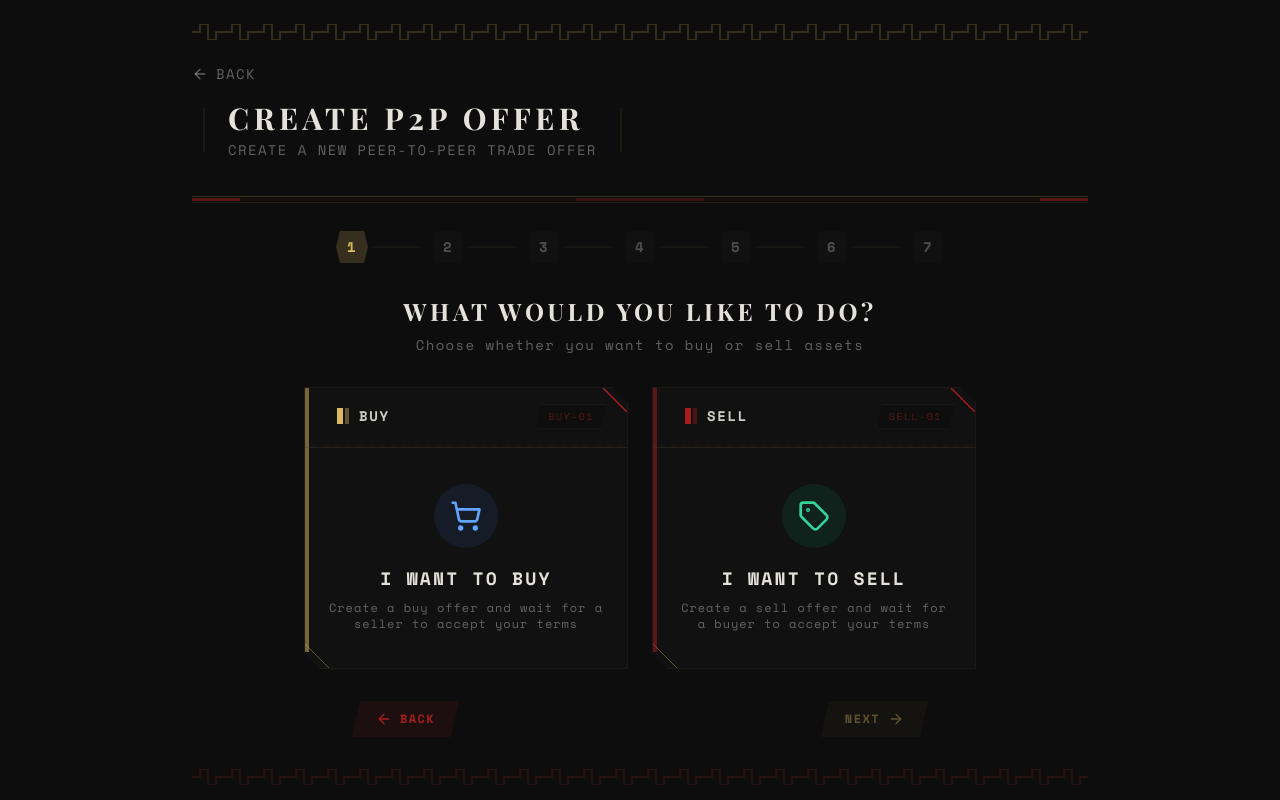
Test: Create P2P Offer Page › step 1: offer type › should advance to asset step after selecting type and clicking Next
Click the heading "I want to Sell": (814, 578) [722,565,906,591]
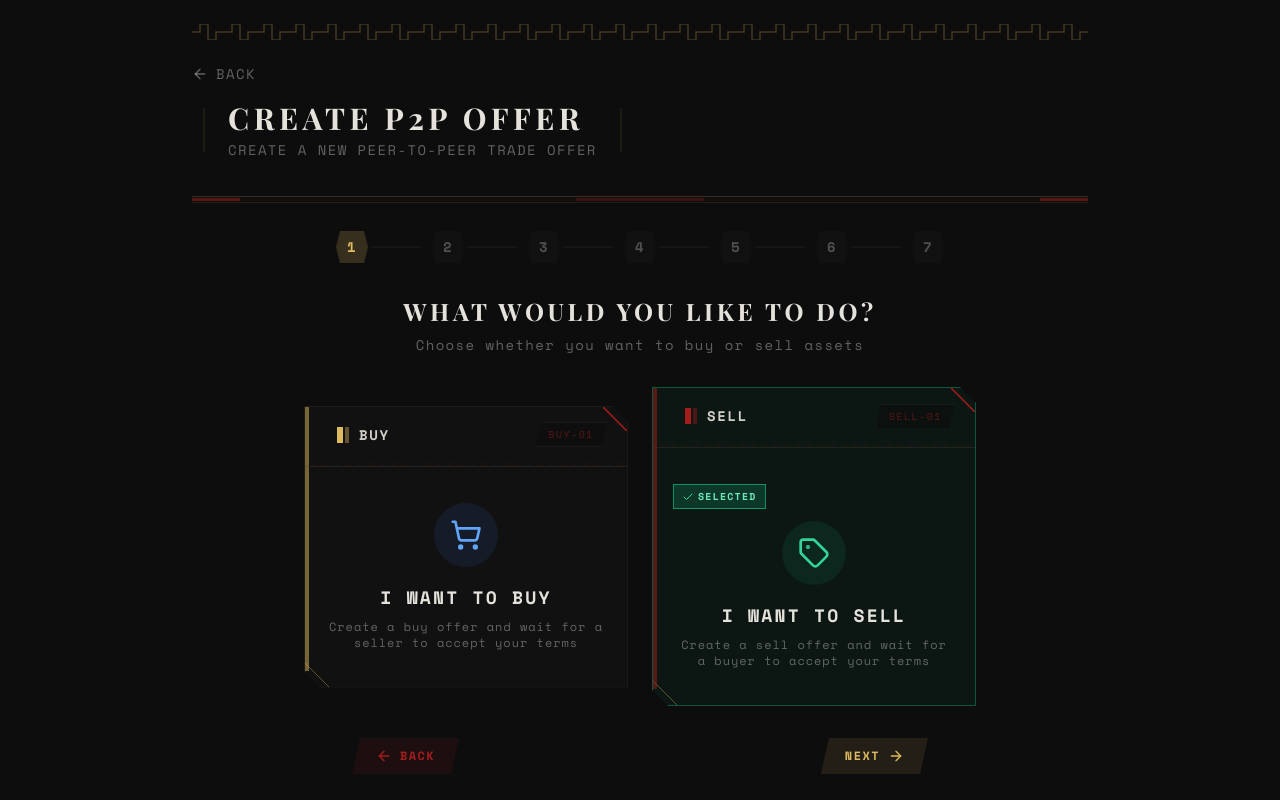
Click the button "Next": (874, 756) [821,738,928,774]
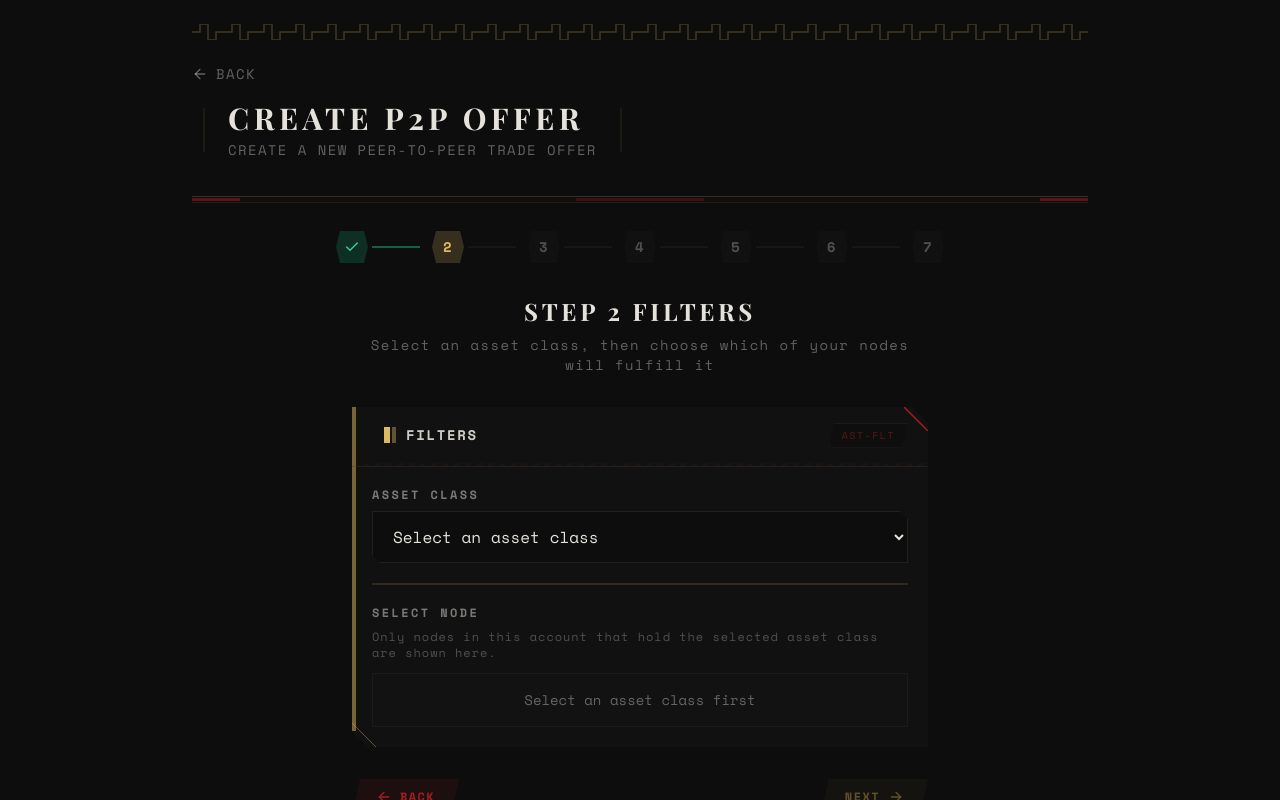
Now the text "Asset Class" is shown, box [372,486,479,503]
